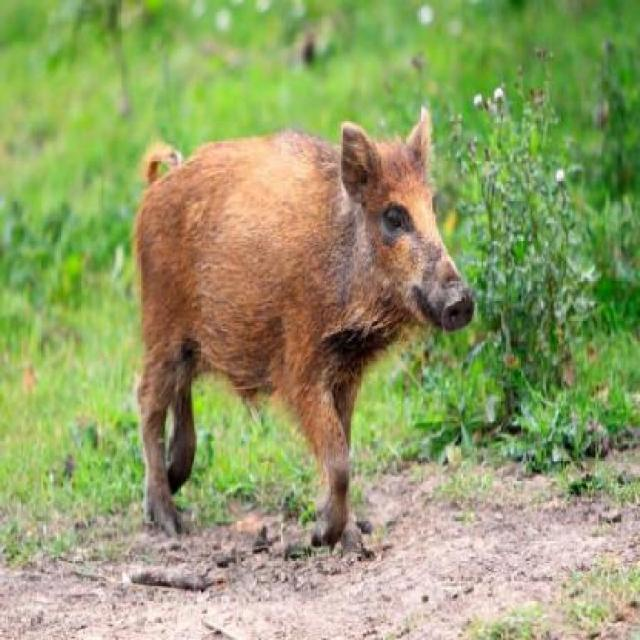Wild Boar: (128, 103, 478, 555)
